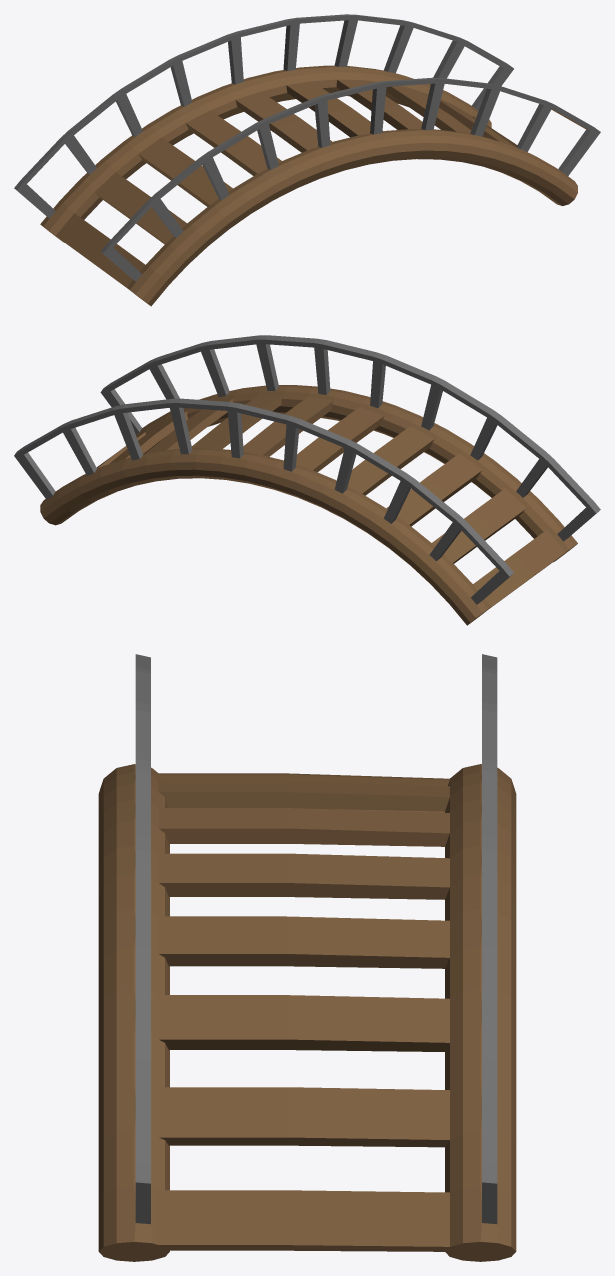
Rendered from bridge.fbx.
3 renders of one model, top to bottom at view 1: azimuth 30°, elevation 25°; view 2: azimuth 150°, elevation 25°; view 3: azimuth 270°, elevation 25°, orthographic. The views are drawn at different scales.
Parts seen in each view (by area): view 1: Bridge; view 2: Bridge; view 3: Bridge.
Boxes of the visible parts, x1,y1,x2,y2 form: Bridge: (14,14,600,306); Bridge: (14,335,600,625); Bridge: (98,654,516,1261).
Size of the model in its own units: 2077 by 654 by 754.
